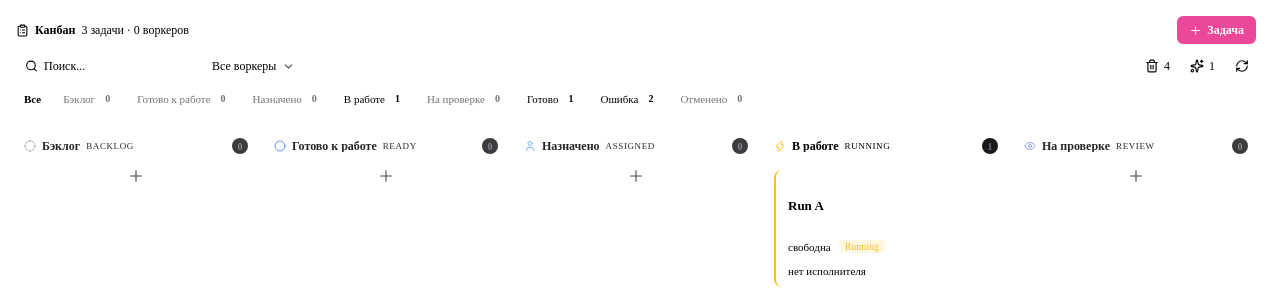
Test: kanban category filter + bulk delete › the Все chip clears the category filter and brings every card back
Step 1. Click the button with test id "status-filter-done" → coordinates (553, 99), box x1=519 y1=88 x2=586 y2=110
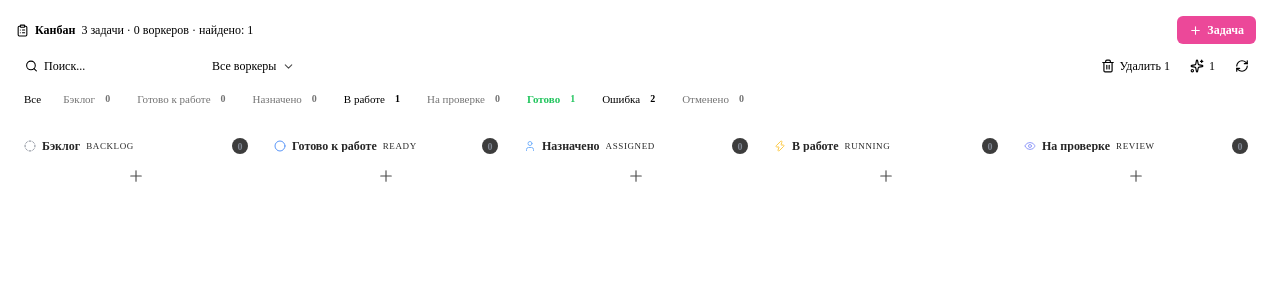
Step 2. Click the button with test id "status-filter-all" → coordinates (33, 99), box x1=16 y1=88 x2=49 y2=110
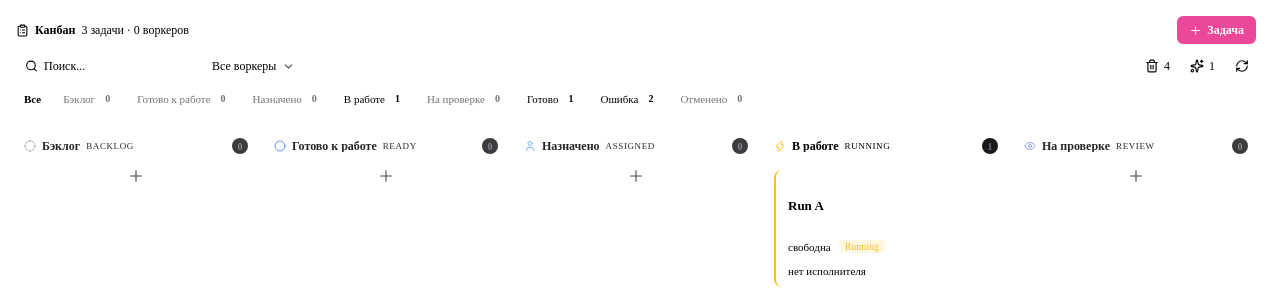
Expected: the heading "Run A" is shown, x1=788 y1=198 x2=824 y2=213
